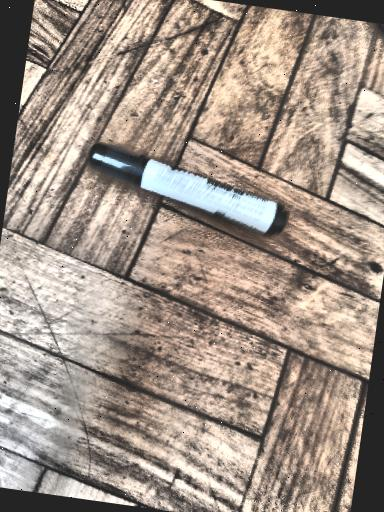marcador negro: (89, 144, 285, 234)
